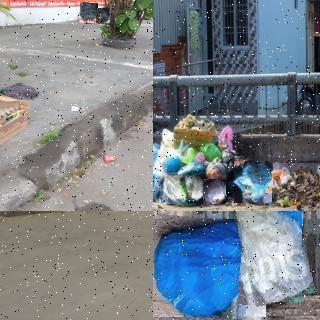Garbage: (153, 216, 268, 319), (232, 211, 309, 304), (233, 160, 273, 204), (160, 175, 204, 205), (201, 178, 227, 205), (80, 3, 98, 23), (96, 8, 110, 24), (153, 172, 159, 200)
